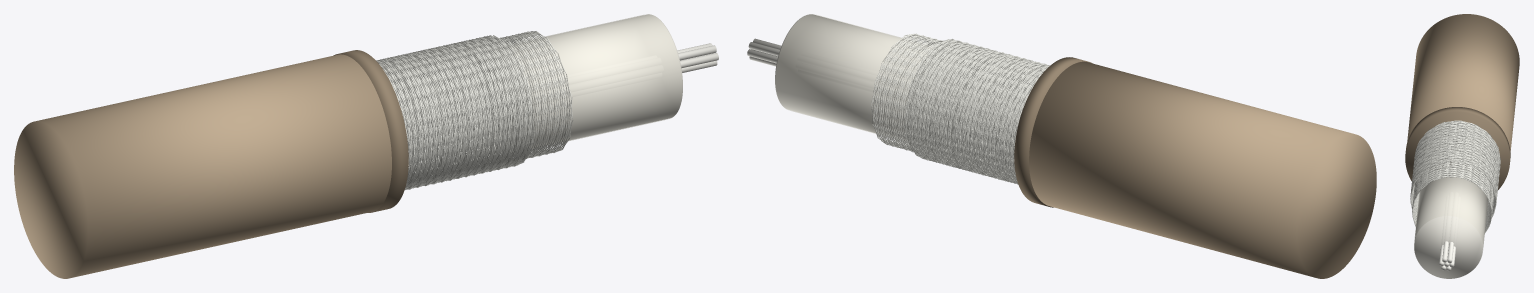
Rendered from rf-sucoflex104.glb.
3 renders of one model, left to right at view 1: azimuth 30°, elevation 25°; view 2: azimuth 150°, elevation 25°; view 3: azimuth 270°, elevation 25°, orthographic. The views are drawn at different scales.
Visible parts, largest first — view 1: matte black pvc jacket body, gas injected foam dielectric, smooth dielectric skin, jacket cut lip, braid left hand carrier 08, braid left hand carrier 09, braid left hand carrier 05, braid left hand carrier 12, braid left hand carrier 03, braid left hand carrier 06, braid left hand carrier 15, braid left hand carrier 11 (+25 smaller); view 2: matte black pvc jacket body, gas injected foam dielectric, smooth dielectric skin, jacket cut lip, braid left hand carrier 14, braid left hand carrier 11, braid left hand carrier 12, braid left hand carrier 05, braid left hand carrier 08, braid left hand carrier 02, braid left hand carrier 15, braid left hand carrier 06 (+24 smaller); view 3: matte black pvc jacket body, gas injected foam dielectric, smooth dielectric skin, jacket cut lip, braid left hand carrier 03, braid left hand carrier 06, braid left hand carrier 09, braid left hand carrier 15, braid left hand carrier 02, braid left hand carrier 05, braid left hand carrier 12, braid left hand carrier 08 (+53 smaller).
Boxes of the visible parts, x1=… form: matte black pvc jacket body: x1=14, y1=54, x2=391, y2=278; gas injected foam dielectric: x1=473, y1=14, x2=682, y2=152; smooth dielectric skin: x1=472, y1=14, x2=681, y2=148; jacket cut lip: x1=333, y1=50, x2=408, y2=212; braid left hand carrier 08: x1=385, y1=40, x2=530, y2=189; braid left hand carrier 09: x1=380, y1=39, x2=531, y2=188; braid left hand carrier 05: x1=387, y1=35, x2=525, y2=189; braid left hand carrier 12: x1=376, y1=38, x2=531, y2=187; braid left hand carrier 03: x1=388, y1=36, x2=522, y2=189; braid left hand carrier 06: x1=390, y1=35, x2=527, y2=189; braid left hand carrier 15: x1=377, y1=37, x2=516, y2=185; braid left hand carrier 11: x1=377, y1=38, x2=534, y2=187; matte black pvc jacket body: x1=1029, y1=61, x2=1376, y2=278; gas injected foam dielectric: x1=775, y1=14, x2=969, y2=144; smooth dielectric skin: x1=776, y1=14, x2=931, y2=139; jacket cut lip: x1=1014, y1=57, x2=1092, y2=207; braid left hand carrier 14: x1=911, y1=42, x2=1048, y2=182; braid left hand carrier 11: x1=915, y1=43, x2=1045, y2=182; braid left hand carrier 12: x1=913, y1=43, x2=1047, y2=184; braid left hand carrier 05: x1=915, y1=40, x2=1046, y2=179; braid left hand carrier 08: x1=919, y1=39, x2=1039, y2=181; braid left hand carrier 02: x1=905, y1=41, x2=1048, y2=181; braid left hand carrier 15: x1=909, y1=42, x2=1047, y2=181; braid left hand carrier 06: x1=922, y1=39, x2=1043, y2=180; matte black pvc jacket body: x1=1407, y1=14, x2=1519, y2=152; gas injected foam dielectric: x1=1414, y1=168, x2=1487, y2=278; smooth dielectric skin: x1=1414, y1=177, x2=1487, y2=253; jacket cut lip: x1=1405, y1=107, x2=1510, y2=189; braid left hand carrier 03: x1=1411, y1=121, x2=1499, y2=198; braid left hand carrier 06: x1=1411, y1=122, x2=1500, y2=198; braid left hand carrier 09: x1=1410, y1=123, x2=1500, y2=200; braid left hand carrier 15: x1=1411, y1=126, x2=1500, y2=207; braid left hand carrier 02: x1=1411, y1=120, x2=1499, y2=213; braid left hand carrier 05: x1=1412, y1=121, x2=1500, y2=189; braid left hand carrier 12: x1=1412, y1=125, x2=1499, y2=199; braid left hand carrier 08: x1=1410, y1=123, x2=1499, y2=196.
Bounding box in the file's own units: 6.53 × 1.41 × 1.54.
